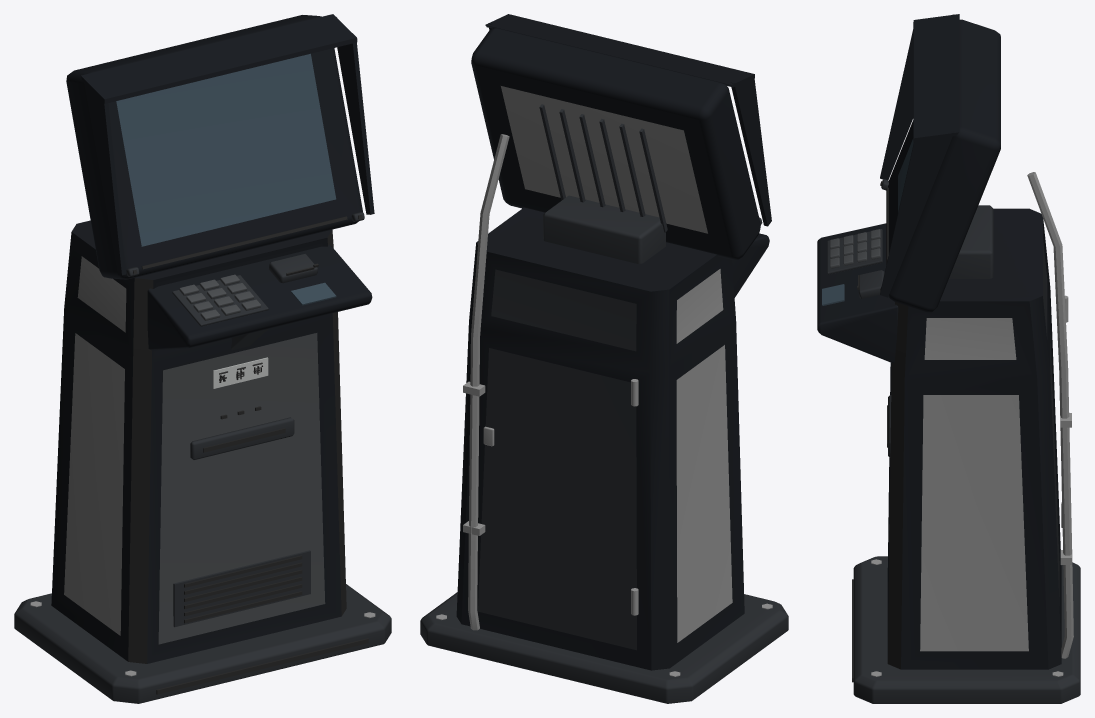
Rendered from Terminal_Kiosk_Off.fbx.
3 views of the same model, side by side, from view 1: azimuth 30°, elevation 25°; view 2: azimuth 150°, elevation 25°; view 3: azimuth 270°, elevation 25° (orthographic). The views are drawn at different scales.
Parts seen in each view (by area): view 1: Terminal_Kiosk_Off_LOD0; view 2: Terminal_Kiosk_Off_LOD0; view 3: Terminal_Kiosk_Off_LOD0.
Part boxes in pixels (bbox=[...]): Terminal_Kiosk_Off_LOD0: bbox=[14, 14, 391, 703]; Terminal_Kiosk_Off_LOD0: bbox=[420, 14, 788, 703]; Terminal_Kiosk_Off_LOD0: bbox=[817, 14, 1080, 703].
Size of what is drawn, in the model's own units: 0.82 by 1.65 by 0.6962.
